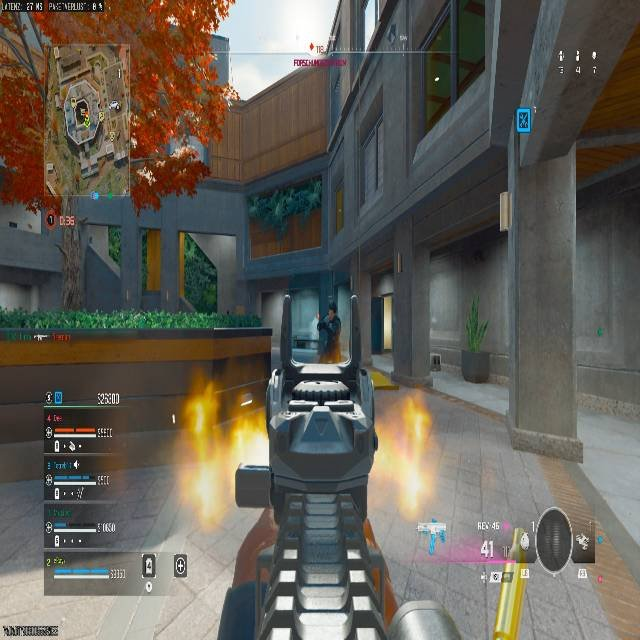head: (328, 302, 336, 314)
player: (317, 302, 341, 361)
